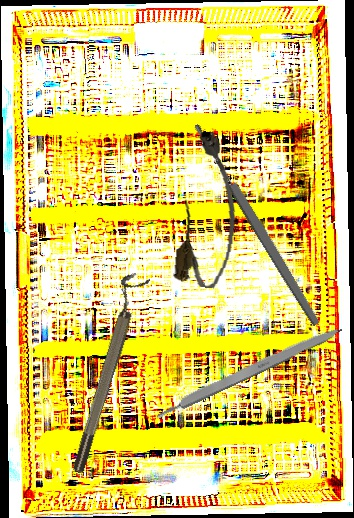Cannula: (172, 129, 247, 291)
Fixation Ring: (60, 269, 151, 476)
Scalpel Handle: (152, 321, 345, 421)
Surgical Spoon: (190, 121, 323, 328)
